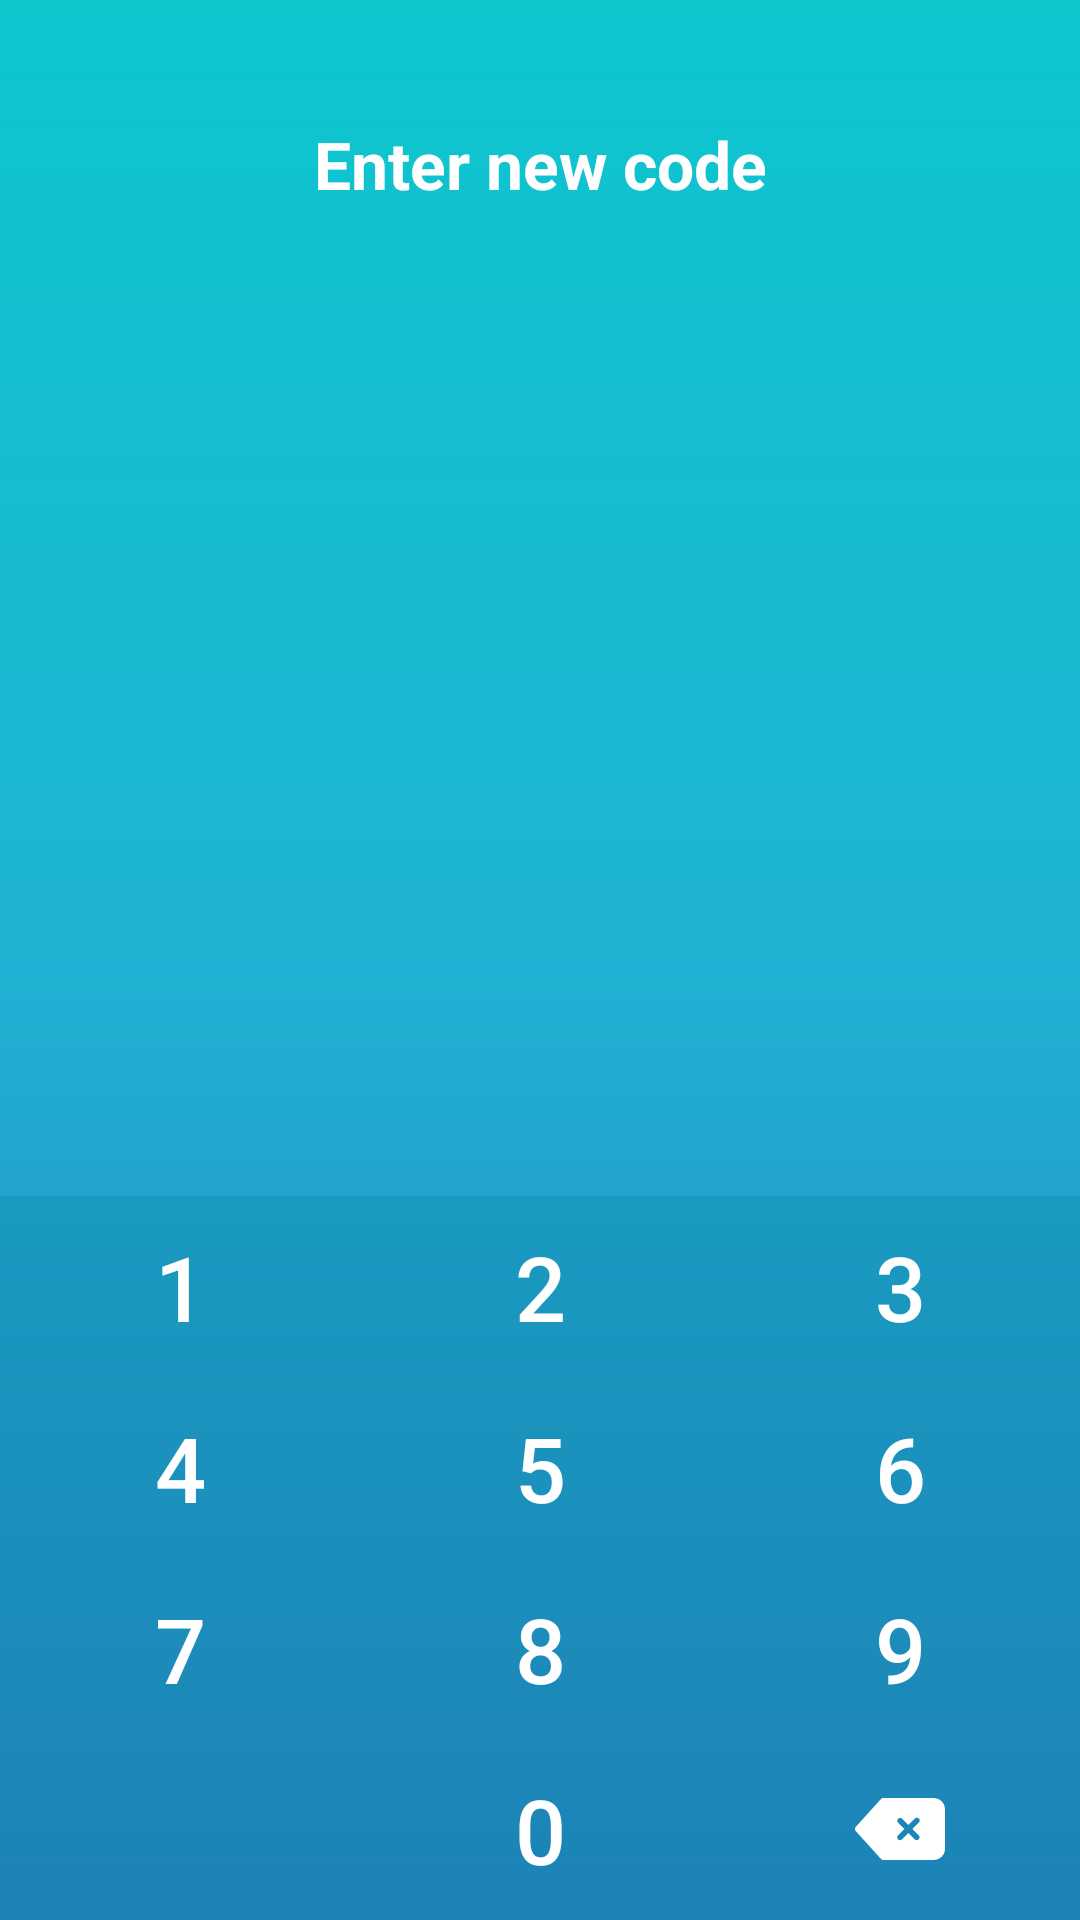

Named icons in this screenshot (1080*1920) and their bounding boxes, (x1, y1, x2, y2):
close arrow: (855, 1798, 945, 1860)
